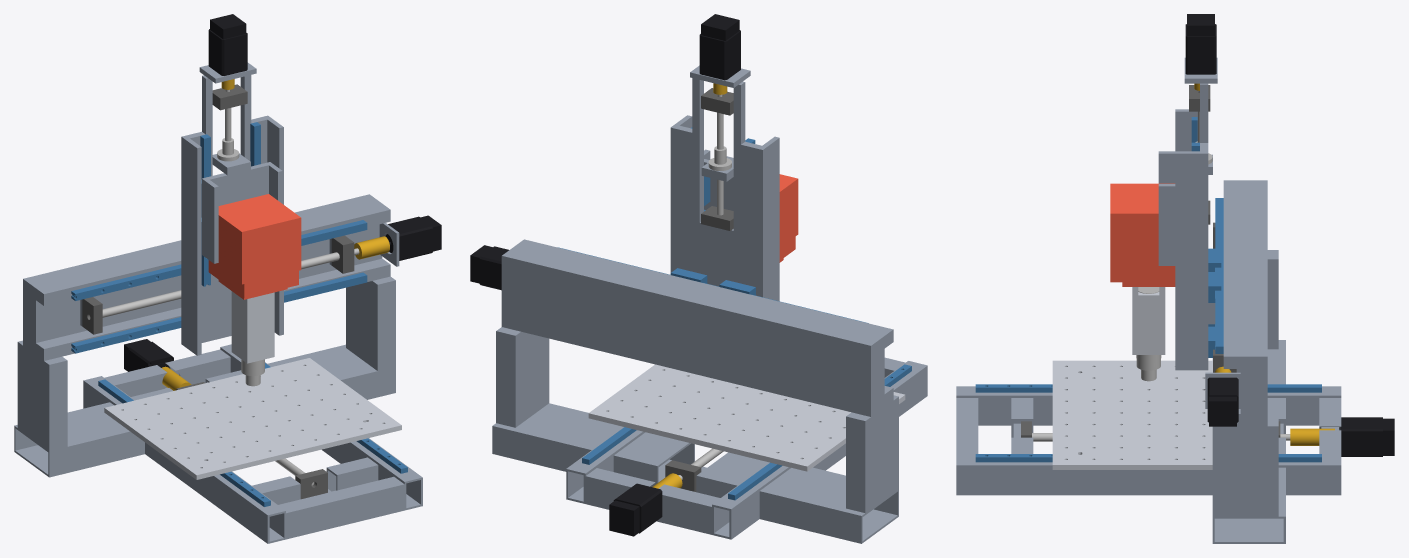
The model's file is A1_center.glb.
3 views of the same model, side by side, from view 1: azimuth 30°, elevation 25°; view 2: azimuth 150°, elevation 25°; view 3: azimuth 270°, elevation 25° (orthographic). The views are drawn at different scales.
Visible parts, largest first — view 1: table, beam, x_carriage, frame_cross_rear, tooldock_master, upright_L, frame_cross_front, frame_longeron_L, upright_R, z_slide, head_mount, frame_cross_end (+18 smaller); view 2: beam, frame_cross_rear, table, x_carriage, upright_L, upright_R, frame_longeron_L, frame_cross_end, z_motor, y_motor, tooldock_master, frame_longeron_R (+8 smaller); view 3: table, beam, frame_longeron_R, x_carriage, upright_R, tooldock_master, frame_cross_rear, frame_longeron_L, head_mount, y_motor, z_slide, z_motor (+10 smaller).
Boxes of the visible parts, bbox=[...] form: table: bbox=[104, 358, 401, 479]; beam: bbox=[23, 194, 390, 360]; x_carriage: bbox=[181, 75, 283, 355]; frame_cross_rear: bbox=[14, 344, 395, 477]; tooldock_master: bbox=[208, 194, 301, 298]; upright_L: bbox=[17, 340, 67, 451]; frame_cross_front: bbox=[278, 476, 404, 539]; frame_longeron_L: bbox=[83, 376, 285, 543]; upright_R: bbox=[346, 276, 395, 370]; z_slide: bbox=[202, 162, 282, 263]; head_mount: bbox=[231, 291, 274, 363]; frame_cross_end: bbox=[104, 349, 230, 396]; beam: bbox=[501, 239, 893, 416]; frame_cross_rear: bbox=[492, 403, 898, 543]; table: bbox=[588, 364, 905, 471]; x_carriage: bbox=[670, 78, 779, 301]; upright_L: bbox=[846, 395, 898, 513]; upright_R: bbox=[496, 327, 549, 427]; frame_longeron_L: bbox=[712, 361, 927, 539]; frame_cross_end: bbox=[585, 468, 720, 534]; z_motor: bbox=[699, 14, 740, 80]; y_motor: bbox=[609, 483, 662, 536]; tooldock_master: bbox=[779, 174, 798, 260]; frame_longeron_R: bbox=[566, 427, 645, 503]; table: bbox=[1052, 360, 1212, 469]; beam: bbox=[1223, 180, 1267, 426]; frame_longeron_R: bbox=[956, 456, 1341, 495]; x_carriage: bbox=[1175, 83, 1208, 370]; upright_R: bbox=[1212, 417, 1278, 516]; tooldock_master: bbox=[1110, 183, 1175, 282]; frame_cross_rear: bbox=[1212, 340, 1285, 543]; frame_longeron_L: bbox=[956, 386, 1341, 425]; head_mount: bbox=[1132, 287, 1165, 354]; y_motor: bbox=[1340, 417, 1394, 456]; z_slide: bbox=[1158, 151, 1175, 265]; z_motor: bbox=[1185, 14, 1216, 74].
Size of the model in its own units: 857 by 875 by 797.
